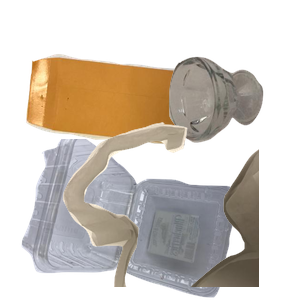glass: (166, 54, 300, 189)
paper: (23, 51, 206, 189)
plastic: (19, 139, 249, 300)
trash: (60, 120, 300, 300)
